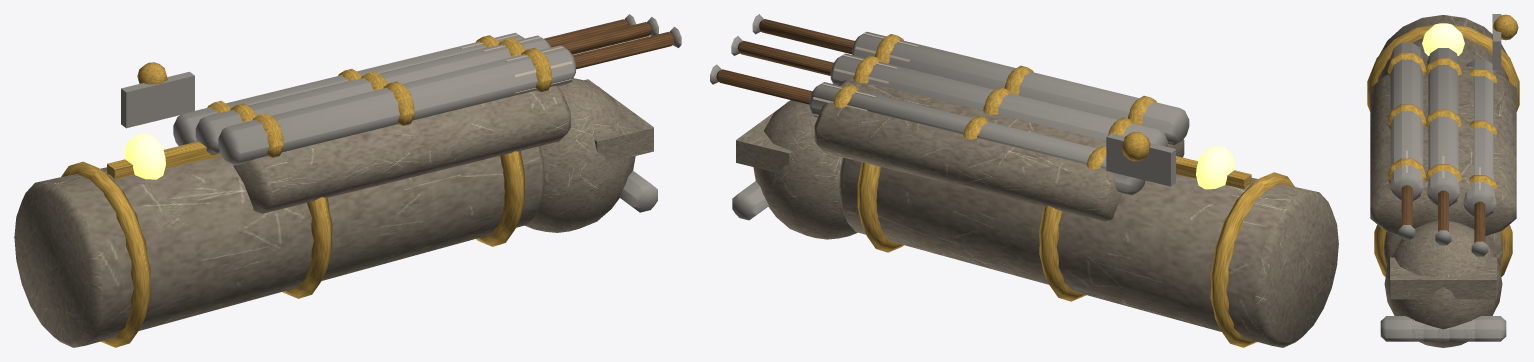
Rendered from gun_dart.glb.
3 views of the same model, side by side, from view 1: azimuth 30°, elevation 25°; view 2: azimuth 150°, elevation 25°; view 3: azimuth 270°, elevation 25° (orthographic). The views are drawn at different scales.
Parts seen in each view (by area): view 1: gun_dart; view 2: gun_dart; view 3: gun_dart.
Boxes of the visible parts, x1=… form: gun_dart: x1=14, y1=14, x2=681, y2=347; gun_dart: x1=710, y1=14, x2=1338, y2=347; gun_dart: x1=1367, y1=14, x2=1519, y2=347.
Bounding box in the file's own units: 0.5234 × 0.189 × 0.1418.
6 materials, 3 textured.
